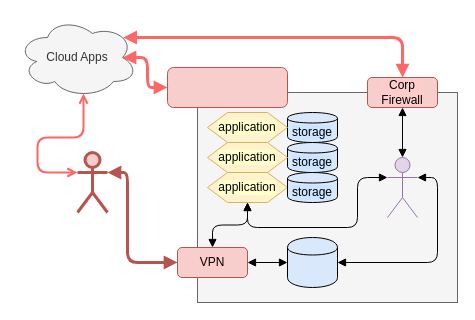
This 475x320 diagram has some shape labels left out. The centre of each missing label's shape, as x and y in pixels:
Local User: point 402,187
Mobile User: point 92,182
Private Interface Application Firewall: point 227,87
shared storage: point 312,262
